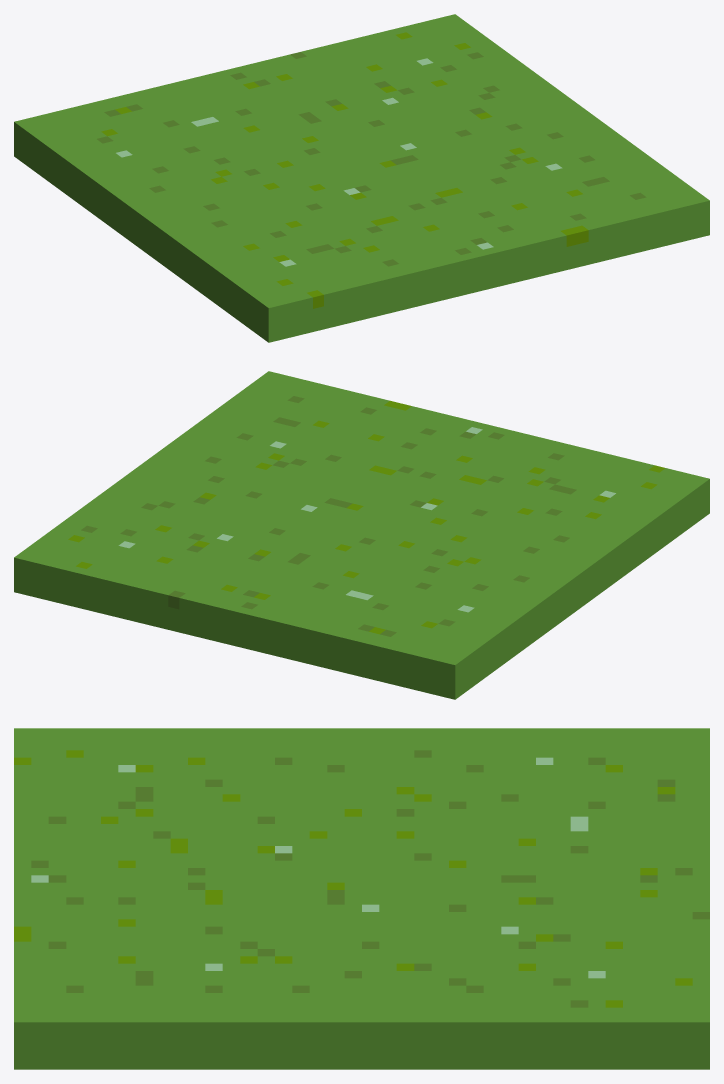
Rendered from grass.gltf.
3 views of the same model, one above another, from view 1: azimuth 30°, elevation 25°; view 2: azimuth 150°, elevation 25°; view 3: azimuth 270°, elevation 25° (orthographic). The views are drawn at different scales.
Visible parts, largest first — view 1: Node; view 2: Node; view 3: Node.
Part boxes in pixels (x1=…): Node: x1=14, y1=14, x2=709, y2=342; Node: x1=14, y1=371, x2=709, y2=699; Node: x1=14, y1=728, x2=709, y2=1069.
Size of the model in its own units: 4 by 0.3 by 4.
Materials: 1 (1 with a texture image).
